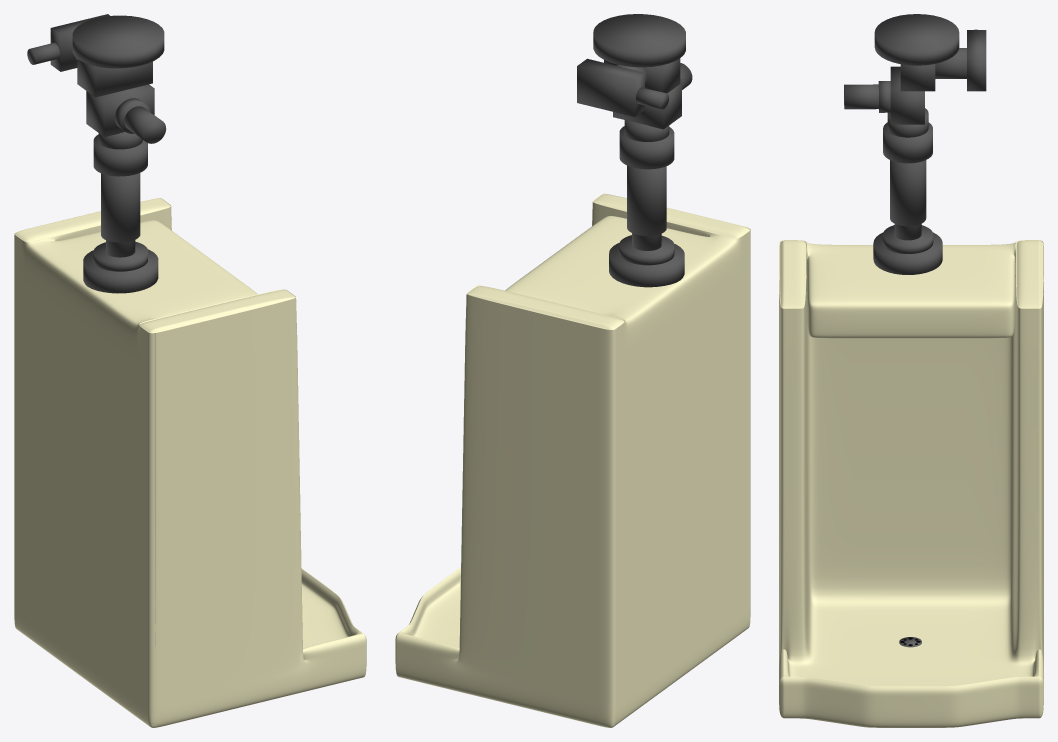
The model's file is urinoir.fbx.
3 renders of one model, left to right at view 1: azimuth 30°, elevation 25°; view 2: azimuth 150°, elevation 25°; view 3: azimuth 270°, elevation 25°, orthographic. The views are drawn at different scales.
Parts seen in each view (by area): view 1: Cube.004, Cylinder; view 2: Cube.004, Cylinder; view 3: Cube.004, Cylinder.
Boxes of the visible parts, bbox=[...] form: Cube.004: bbox=[14, 198, 366, 727]; Cylinder: bbox=[27, 14, 166, 293]; Cube.004: bbox=[395, 193, 750, 727]; Cylinder: bbox=[577, 14, 692, 287]; Cube.004: bbox=[779, 240, 1043, 727]; Cylinder: bbox=[844, 14, 986, 274].
Size of the model in its own units: 219 by 522 by 208.
4 materials, 1 textured.
